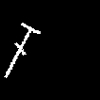double_crochet: (4, 23, 39, 77)
